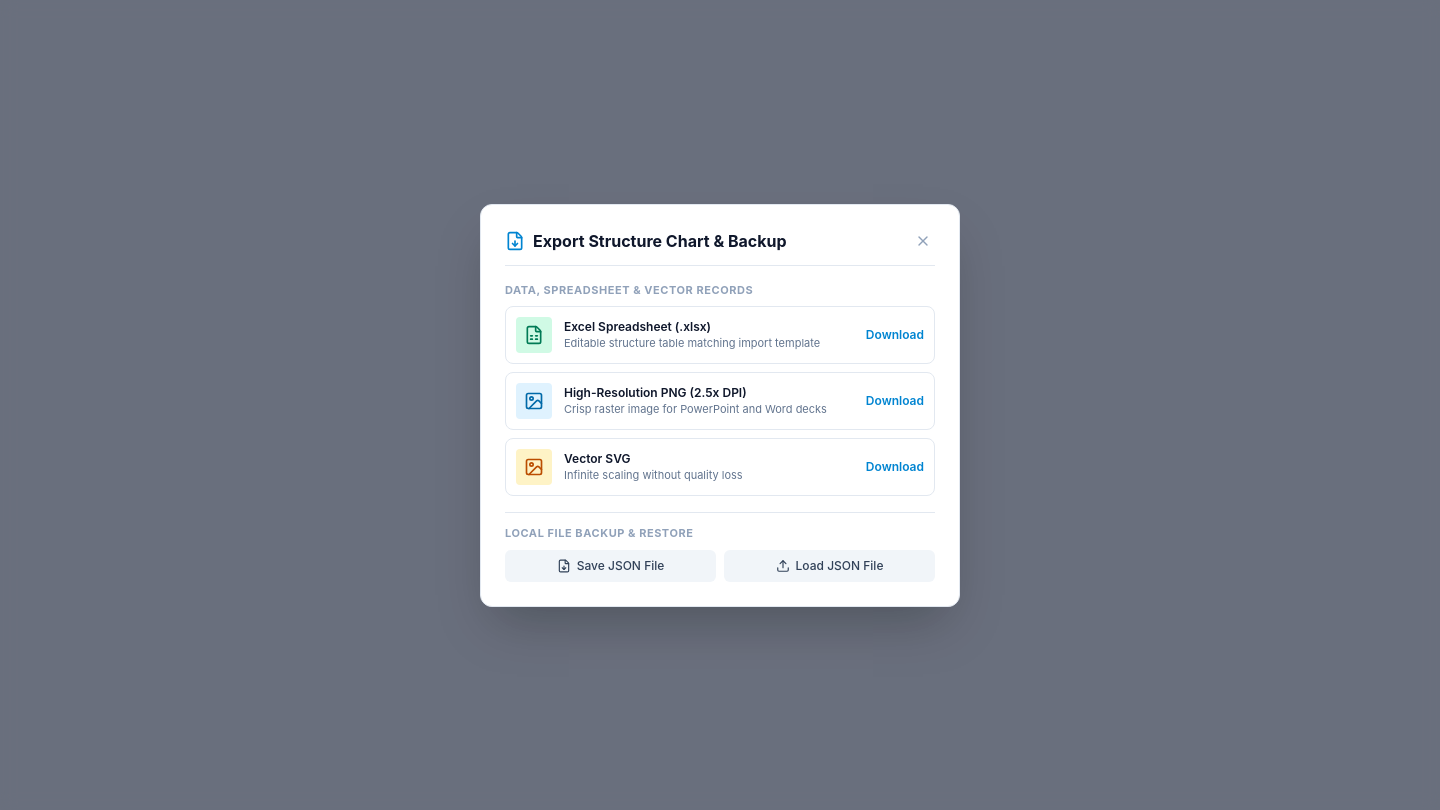
Test: ExportModal Component › Encrypted JSON Export & Import › allows closing the password modal via Cancel button
Click the button "Save JSON File" at (610, 566), box [505,550,716,582]
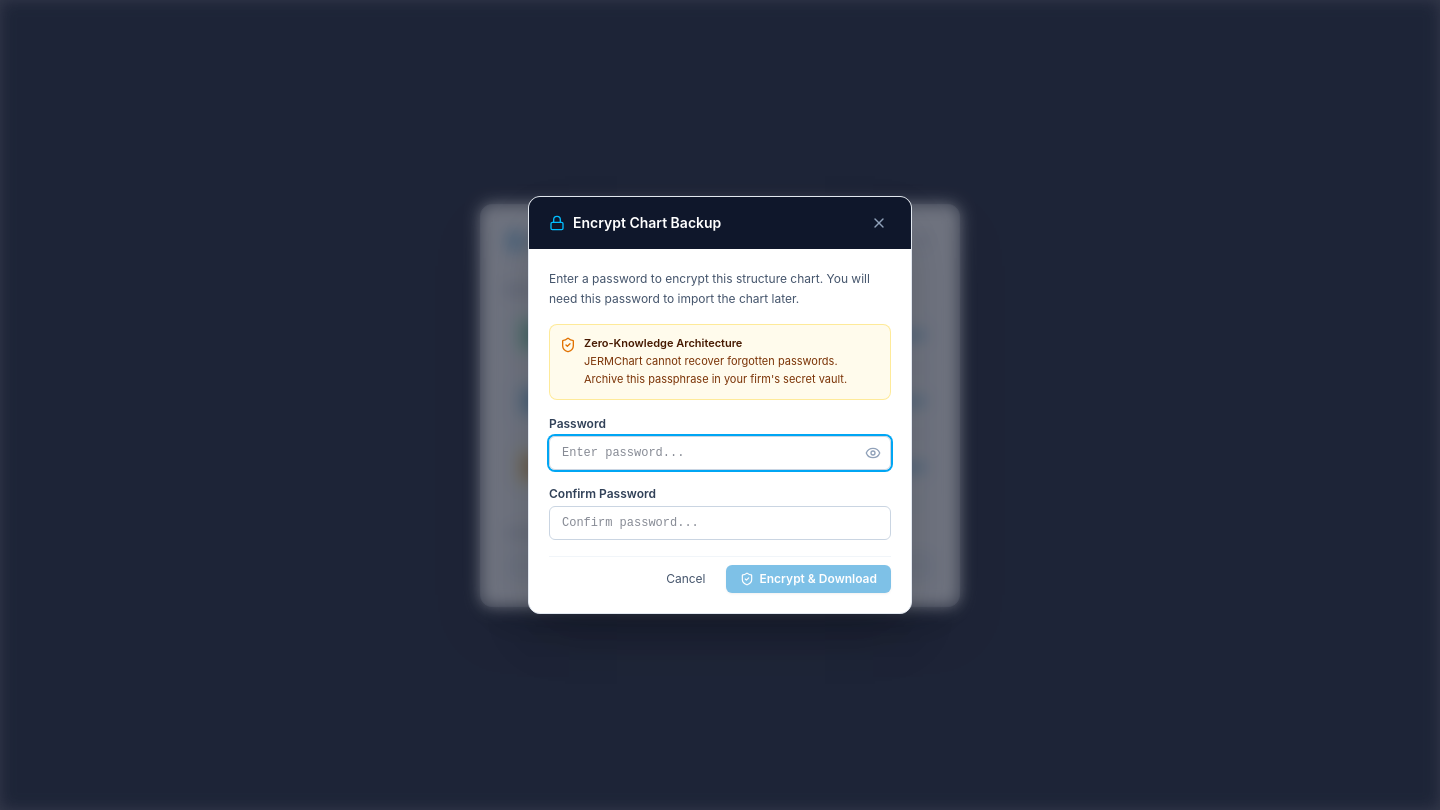
Check: the heading "Encrypt Chart Backup" is shown, box [573,213,721,233]
Click the button "Cancel" at (686, 579), box [654,565,718,593]
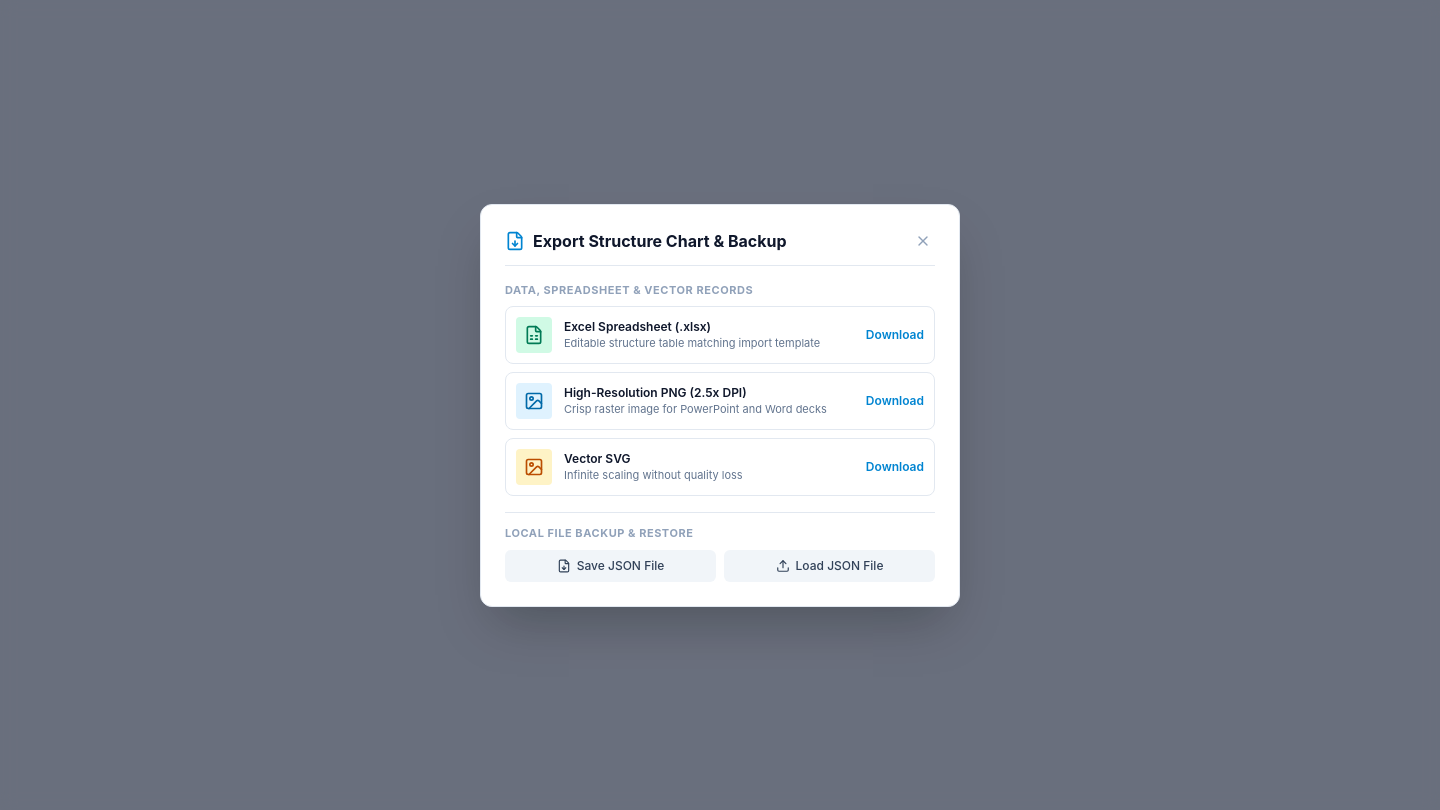
Check: the heading "Encrypt Chart Backup" is gone
